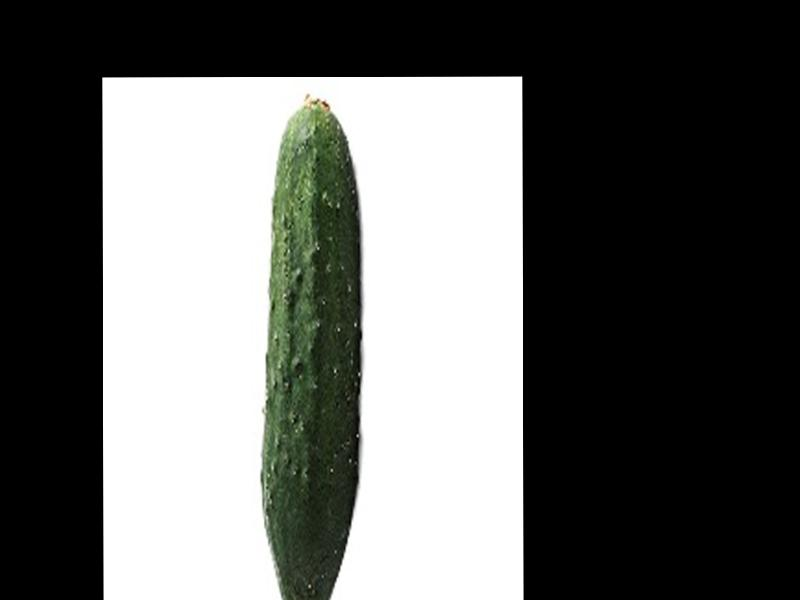Cucumber: (261, 96, 361, 600)
